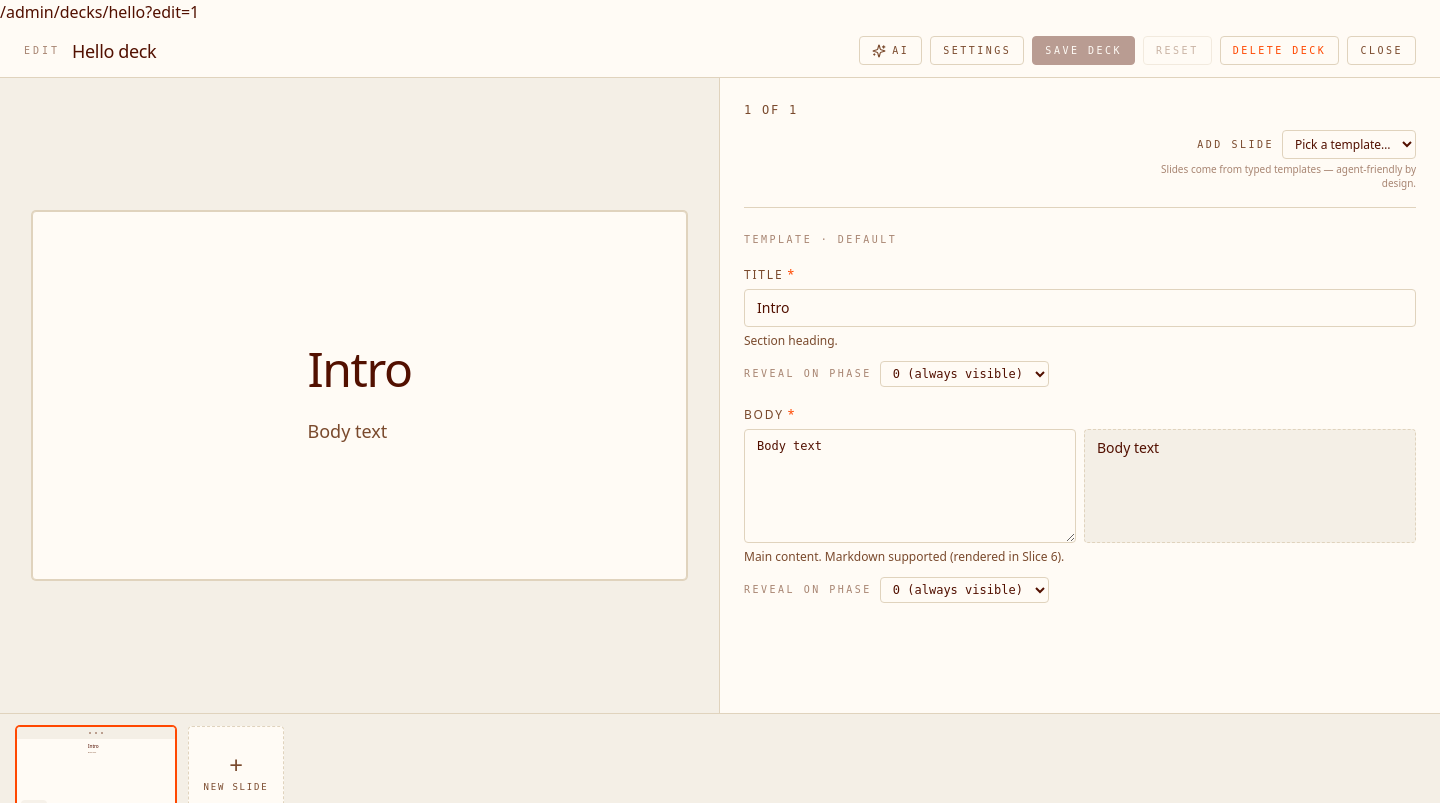
Test: <EditMode> — delete deck (#130) › clicking Delete deck opens the confirm dialog with the deck title
The image size is (1440, 803).
What coordinates should you click on to do the following:
click the button with test id "edit-delete"
I would click on:
 (1280, 50)
Its box is [1220, 36, 1339, 65].
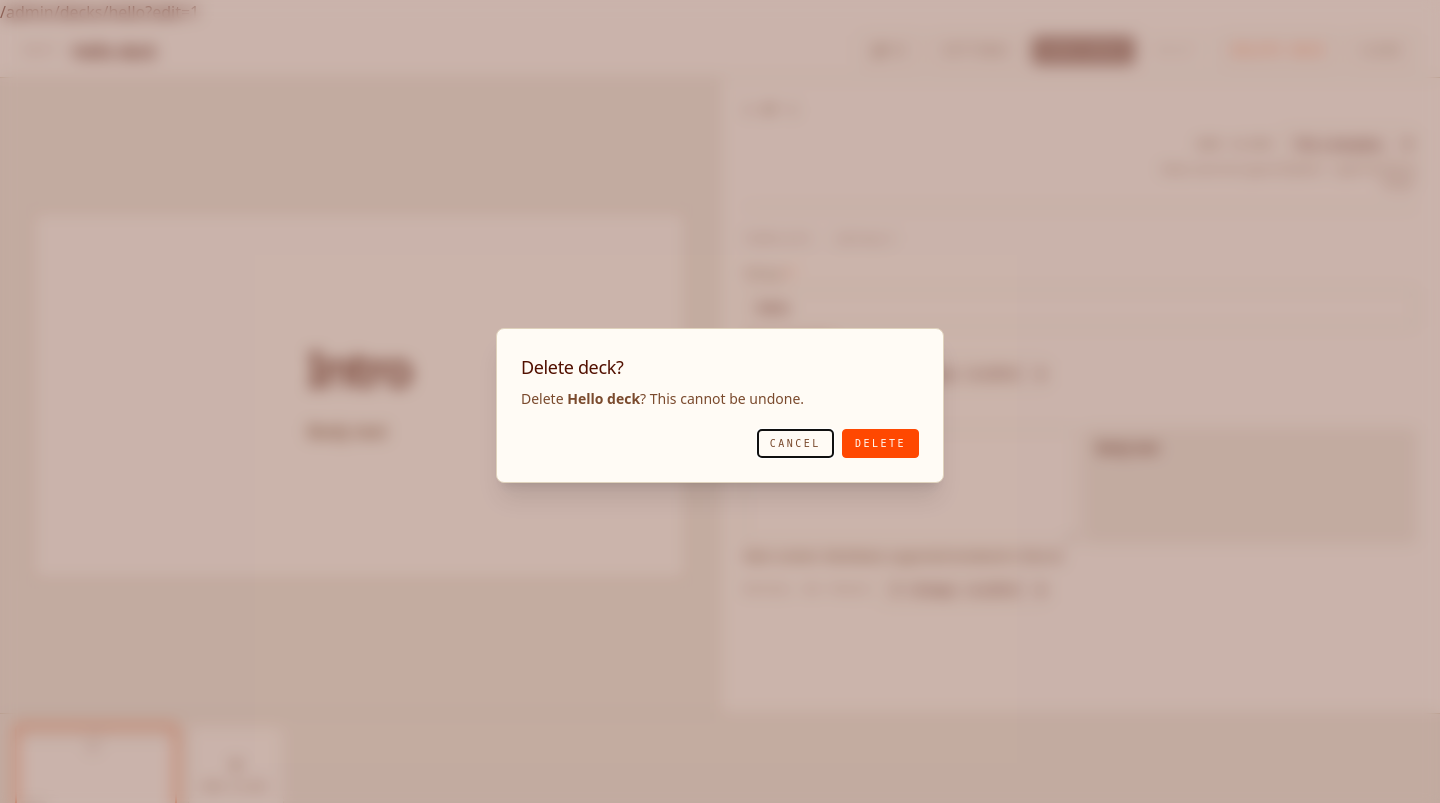
Result: the dialog with test id "confirm-dialog" is shown at [496, 328, 944, 482]
Result: the dialog with test id "confirm-dialog" shows "Hello deck" at [567, 388, 640, 408]
